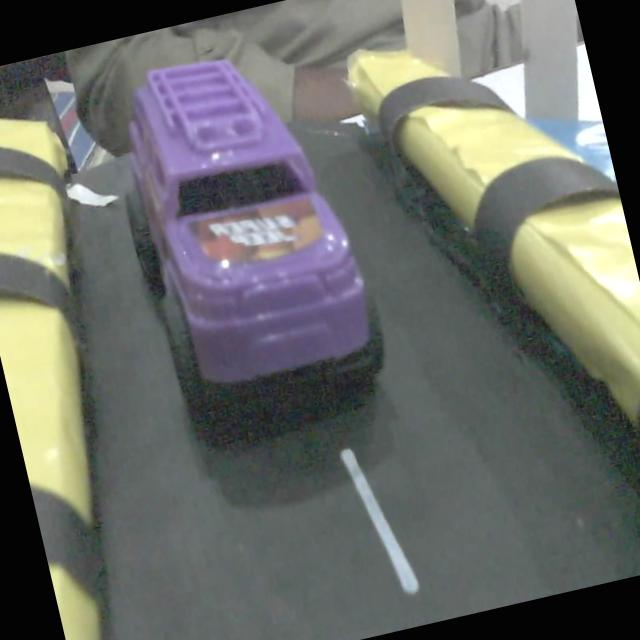OneCar: (126, 61, 383, 414)
